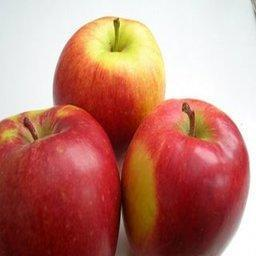apple: (119, 102, 249, 254), (1, 108, 123, 253), (48, 19, 166, 154)
